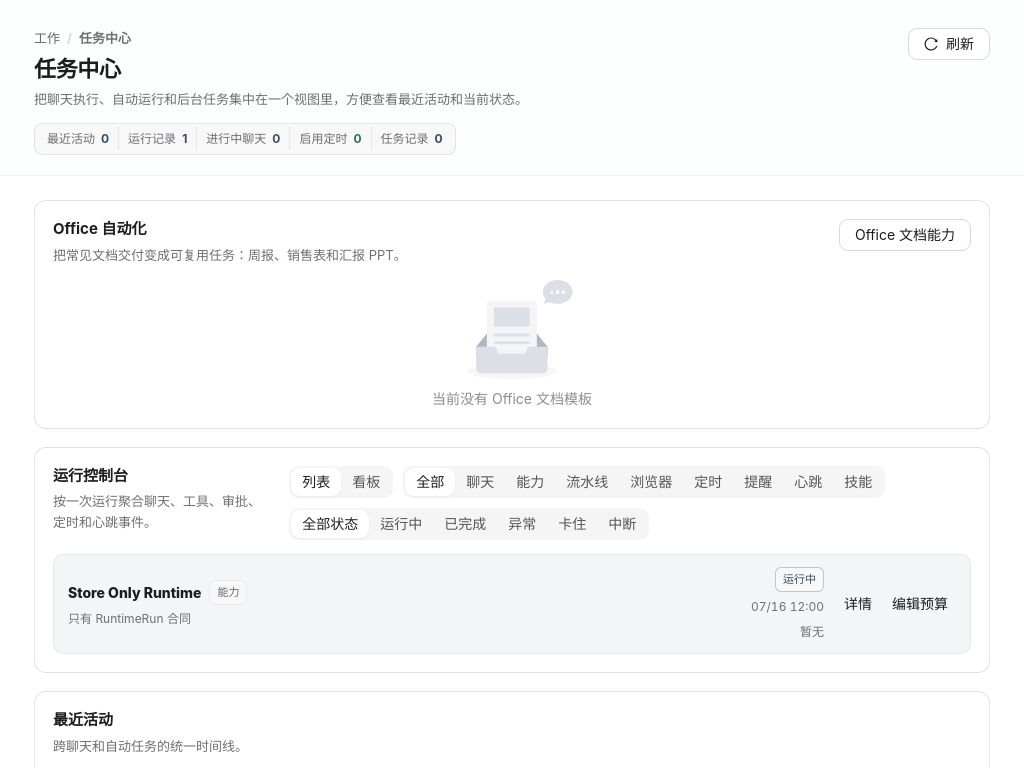
Scenario: TaskCenterPage › shows a contract-backed empty trace state for store-only runs
Expected: the element "运行控制台" is shown, [34,447,990,673]
Click the button "Store Only Runtime 能力 只有 RuntimeRun 合同": (135, 592) [68,580,739,628]
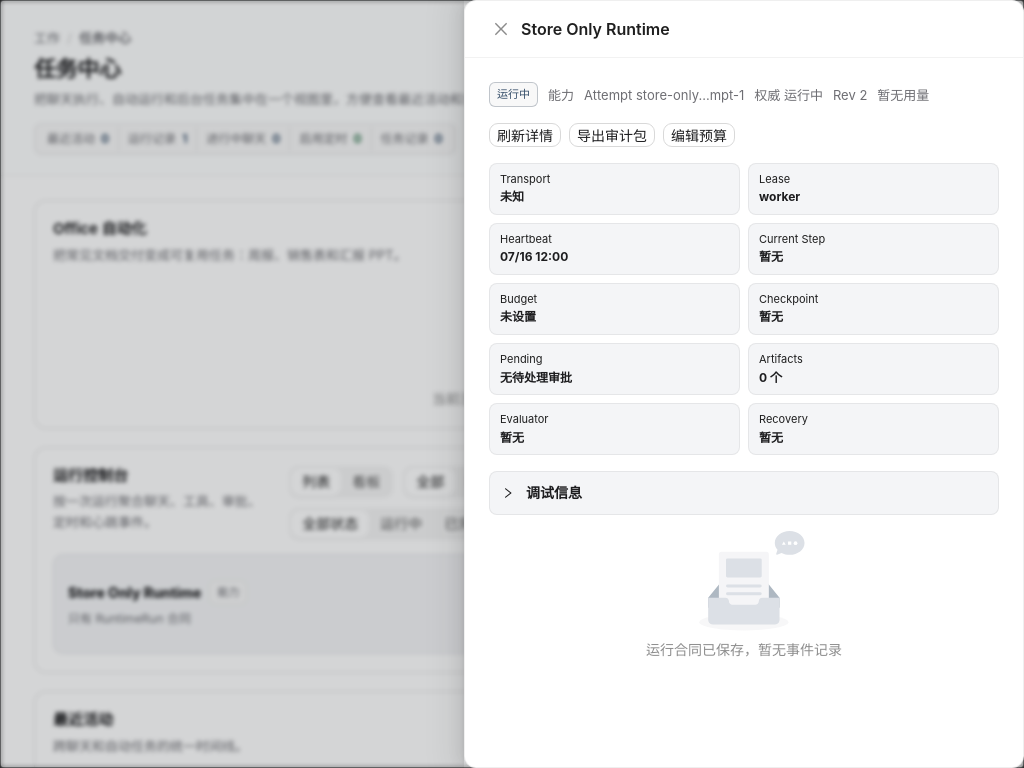
Expected: the text "运行合同已保存，暂无事件记录" is shown, [646,642,842,658]
